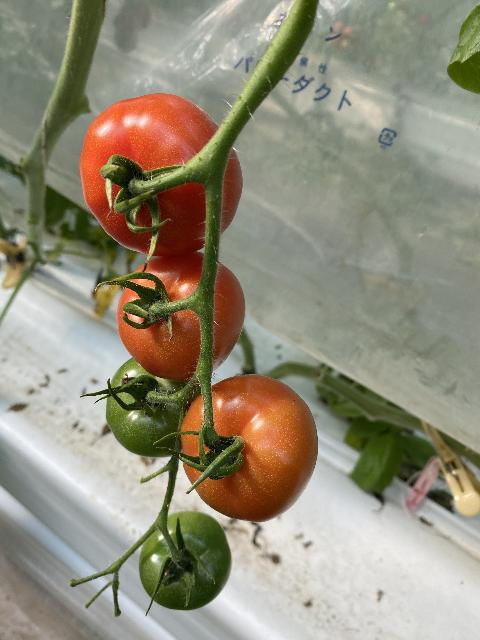l_fully_ripened: (80, 92, 243, 257), (117, 251, 246, 382)
l_green: (106, 357, 206, 458), (139, 510, 232, 611)
l_half_ripened: (180, 374, 318, 524)
